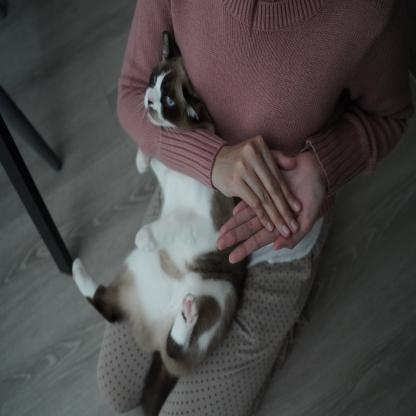Love: (202, 128, 349, 272)
